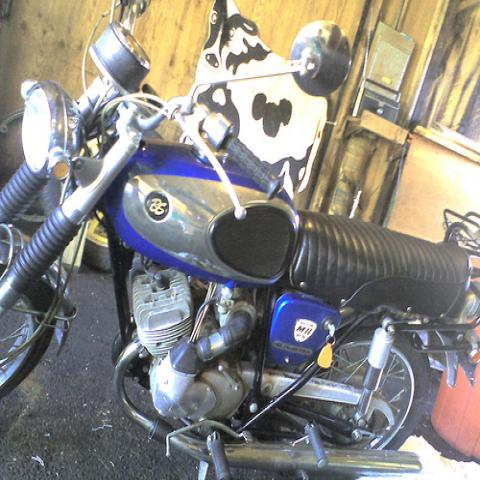motorcycle: (0, 31, 479, 474)
